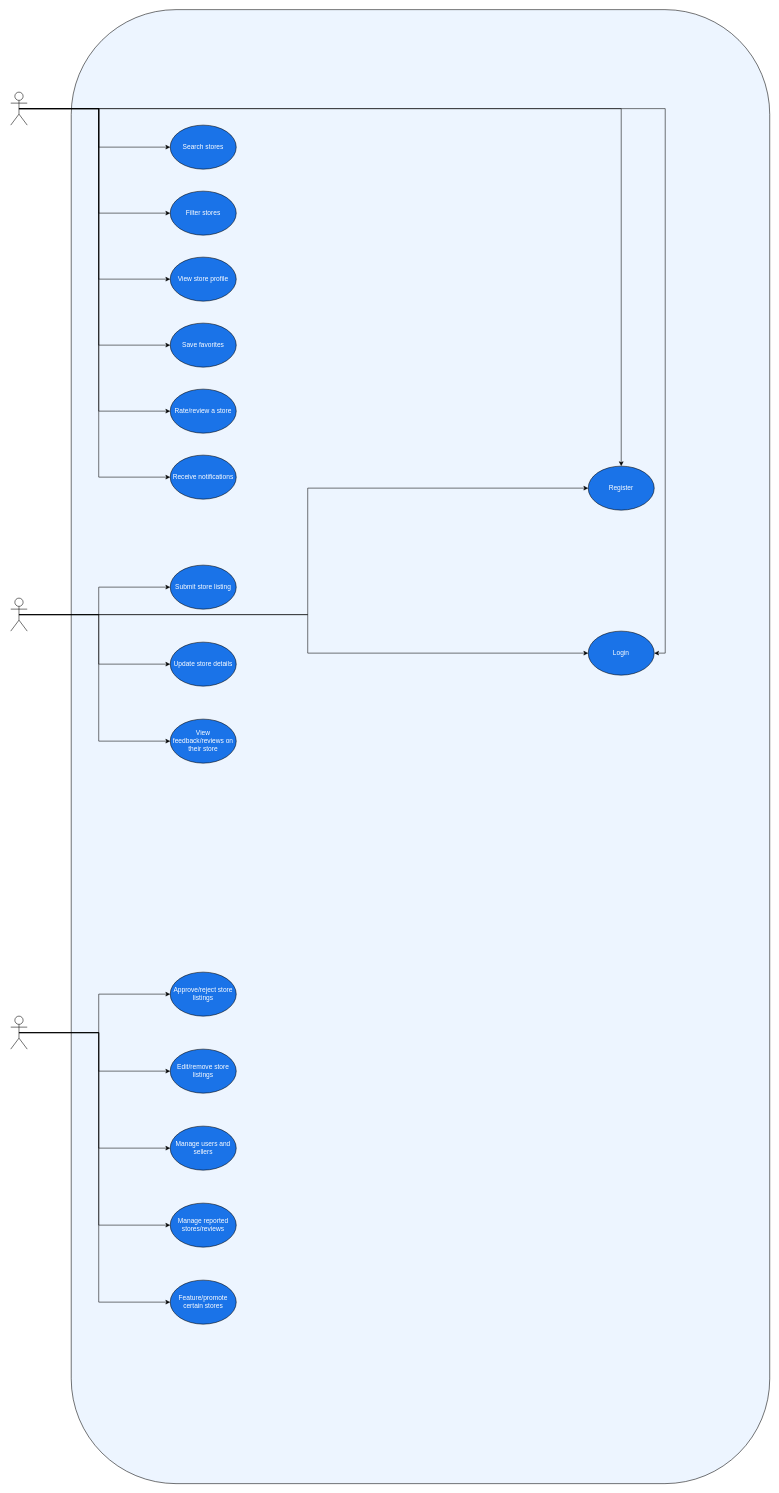
Some shapes in this 779 by 1493 pixel diagram are drawn without their labels. The box of each missing label's shape, as (x1, y1, x2, y2) in pixels:
Admin: (10, 1016, 27, 1049)
Seller: (10, 598, 27, 631)
User: (10, 92, 27, 125)
